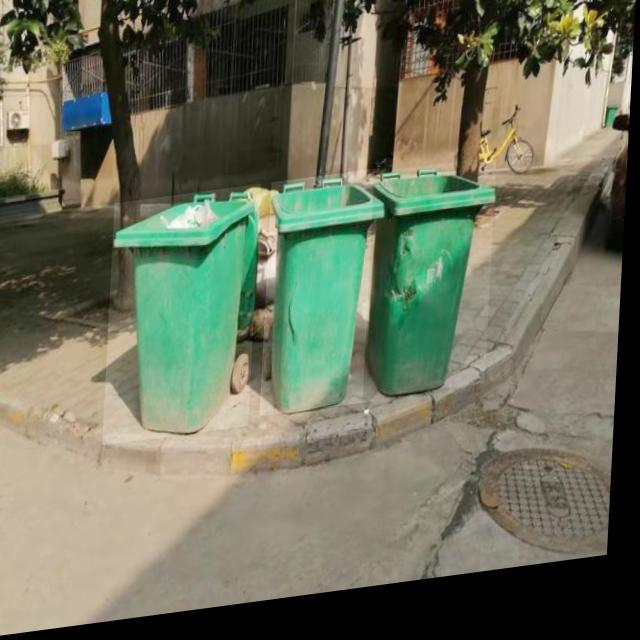garbage_bin: (367, 171, 499, 410), (264, 179, 388, 425)
overflow: (108, 191, 264, 449)
